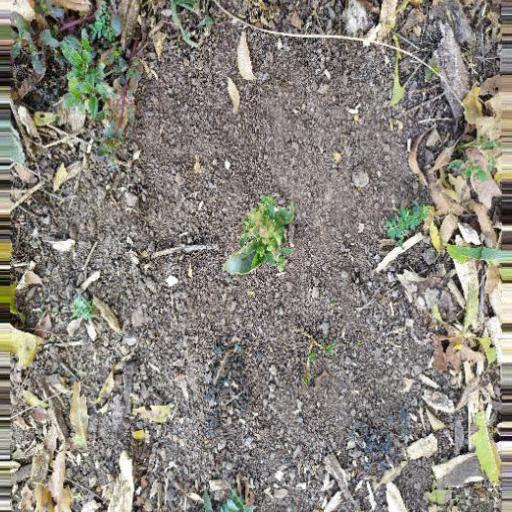weed: (209, 182, 329, 302), (34, 29, 139, 122)
